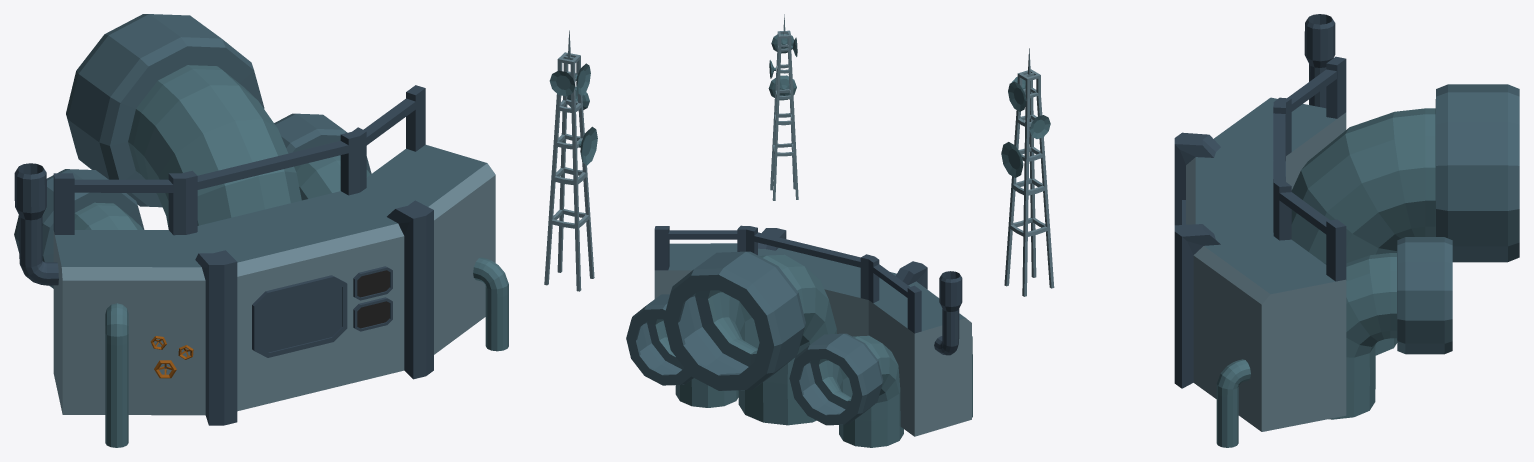
The model's file is river_control_tower.fbx.
The picture shows the model from 3 angles, left to right: view 1: azimuth 30°, elevation 25°; view 2: azimuth 150°, elevation 25°; view 3: azimuth 270°, elevation 25°; orthographic projection. The views are drawn at different scales.
Parts seen in each view (by area): view 1: building, main pipe, screen 1, radio tower, side pipes, side pipes.001, exhaust pipe, decorative pipe 1, decorative pipe 2, screen 2, screen 2.001; view 2: building, main pipe, side pipes, side pipes.001, radio tower, exhaust pipe; view 3: building, main pipe, side pipes.001, radio tower, decorative pipe 2, exhaust pipe, dish 1.
Part boxes in pixels (left/top/right/bottom): building: left=53, top=85, right=495, bottom=425; main pipe: left=66, top=14, right=301, bottom=228; screen 1: left=252, top=275, right=347, bottom=357; radio tower: left=544, top=30, right=594, bottom=291; side pipes: left=14, top=169, right=144, bottom=288; side pipes.001: left=274, top=113, right=371, bottom=200; exhaust pipe: left=14, top=163, right=58, bottom=285; decorative pipe 1: left=105, top=303, right=128, bottom=447; decorative pipe 2: left=473, top=257, right=508, bottom=351; screen 2: left=353, top=266, right=392, bottom=300; screen 2.001: left=353, top=297, right=392, bottom=331; building: left=654, top=225, right=971, bottom=436; main pipe: left=663, top=251, right=836, bottom=425; side pipes: left=789, top=333, right=903, bottom=447; side pipes.001: left=626, top=294, right=738, bottom=407; radio tower: left=770, top=14, right=798, bottom=200; exhaust pipe: left=934, top=271, right=962, bottom=355; building: left=1174, top=56, right=1346, bottom=431; main pipe: left=1291, top=84, right=1519, bottom=355; side pipes.001: left=1328, top=237, right=1452, bottom=419; radio tower: left=1004, top=48, right=1054, bottom=296; decorative pipe 2: left=1216, top=359, right=1250, bottom=447; exhaust pipe: left=1304, top=14, right=1335, bottom=108; dish 1: left=1001, top=142, right=1023, bottom=177.
Size of the model in its own units: 7692 by 6581 by 8135.
